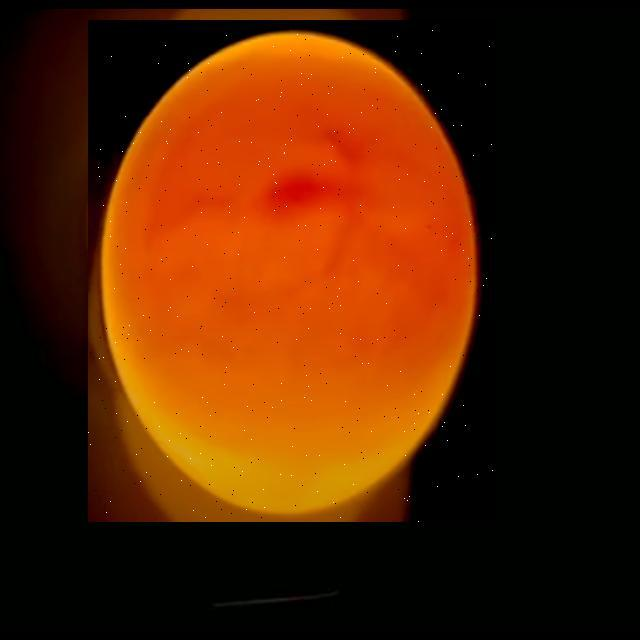Fertile: (88, 20, 496, 522)
